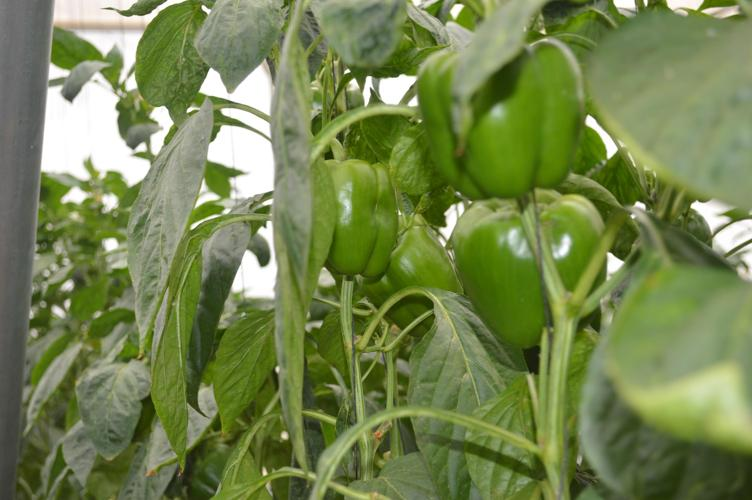BellPepper: (411, 36, 584, 188), (448, 195, 605, 336), (313, 156, 395, 279), (370, 215, 452, 330)
